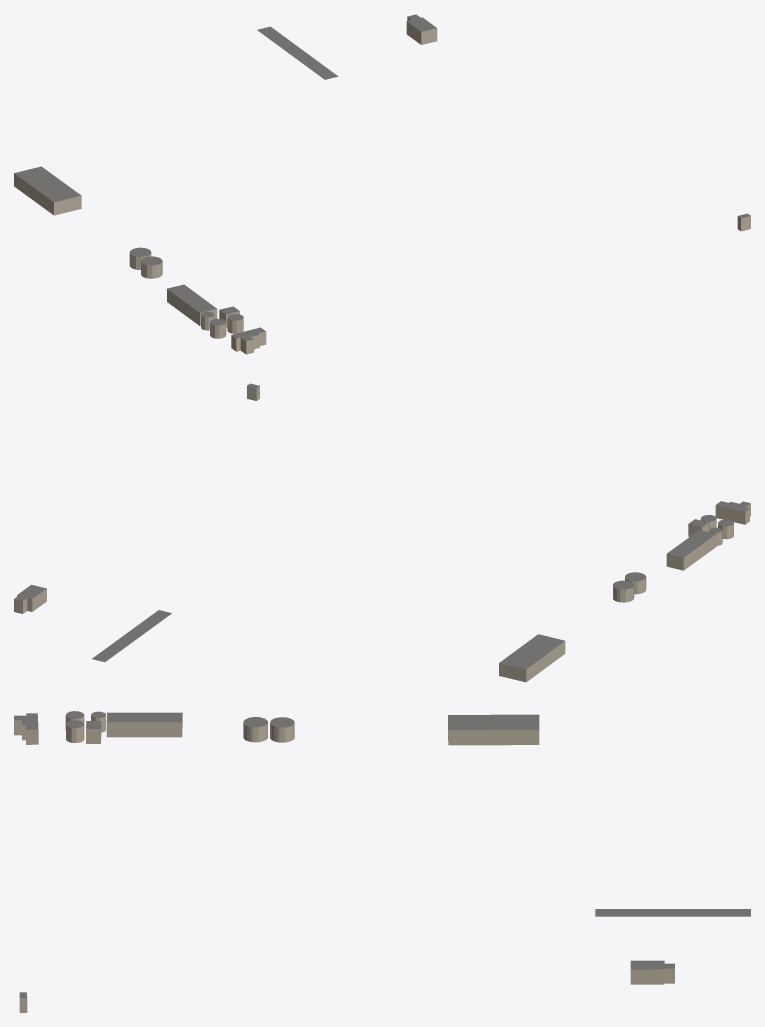
File: buildings.glb
The picture shows the model from 3 angles, top to bottom: view 1: azimuth 30°, elevation 25°; view 2: azimuth 150°, elevation 25°; view 3: azimuth 270°, elevation 25°; orthographic projection. The views are drawn at different scales.
Visible parts, largest first — view 1: T_W3_N3_buildings; view 2: T_W3_N3_buildings; view 3: T_W3_N3_buildings.
Part boxes in pixels (x1,y1,x2,y2): T_W3_N3_buildings: [14, 14, 750, 354]; T_W3_N3_buildings: [14, 383, 750, 682]; T_W3_N3_buildings: [14, 711, 750, 1012].
Bounding box in the file's own units: 409 × 12 × 444.
